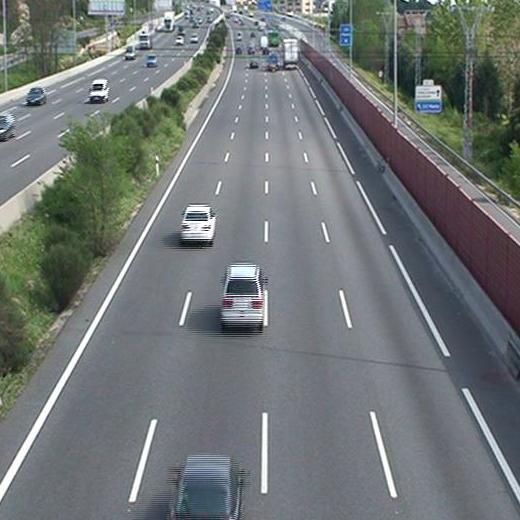car: (168, 453, 248, 520), (219, 263, 267, 331), (178, 203, 218, 245), (249, 58, 260, 71)
small-truck: (266, 51, 281, 71)
truck: (280, 37, 300, 68)
